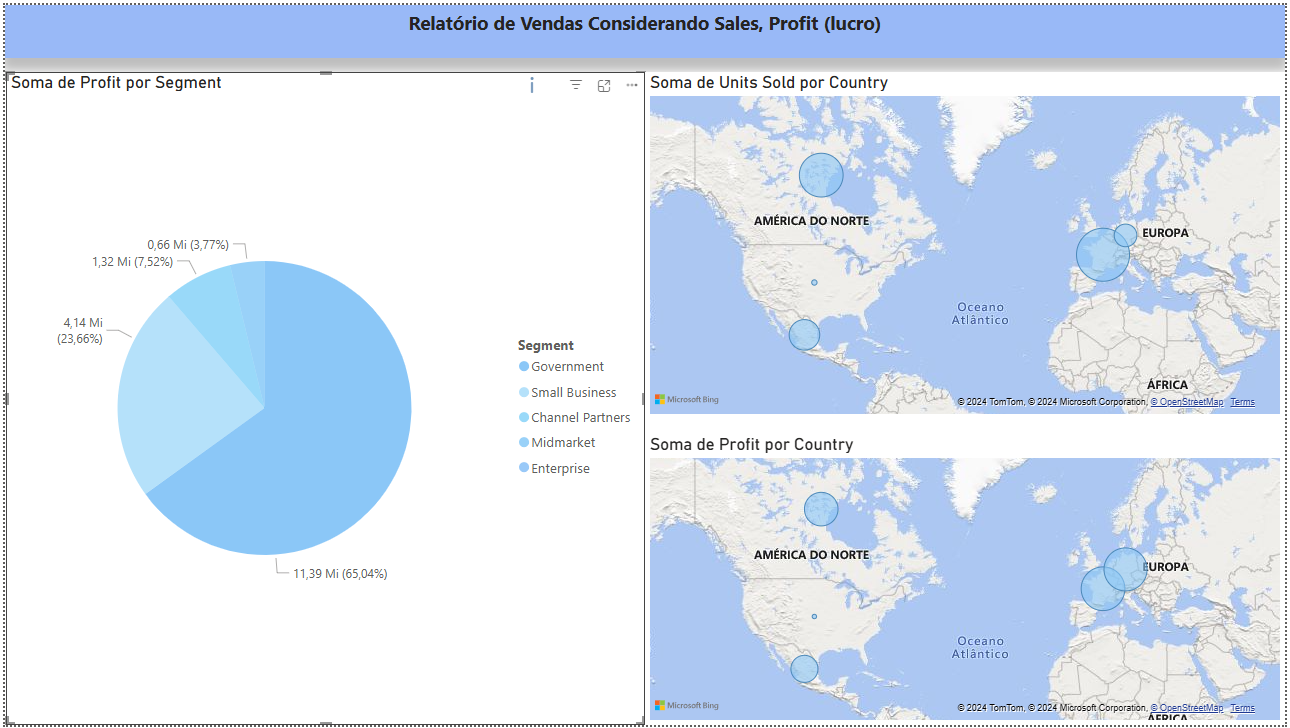

This screenshot's page, from the dashboard's own definition file:
{"tool":"powerbi","page":{"name":"Página 3","canvas":[1280,720],"ordinal":2},"visuals":[{"type":"textbox","box":[0,0,1280,52.9],"z":0},{"type":"pieChart","fields":{"Y":["Sum(financials.Profit)"],"Category":["financials.Segment"]},"box":[0.9,67.2,639.5,652.4],"z":3000},{"type":"map","fields":{"Category":["financials.Country"],"Size":["Sum(financials.Units Sold)"]},"box":[640,67,640,347],"z":3001},{"type":"map","fields":{"Category":["financials.Country"],"Size":["Sum(financials.Profit)"]},"box":[640,429,640,291],"z":3002}]}

Visuals, with their boxes in screenshot pixels (x1, y1, x2, y2), scaled from the page's 1280x720 canvas onto the 1290x728 screenshot:
textbox: [0,0,1289,53]
pieChart - Sum(financials.Profit) x financials.Segment: [1,68,645,727]
map - financials.Country x Sum(financials.Units Sold): [645,68,1289,419]
map - financials.Country x Sum(financials.Profit): [645,434,1289,727]
